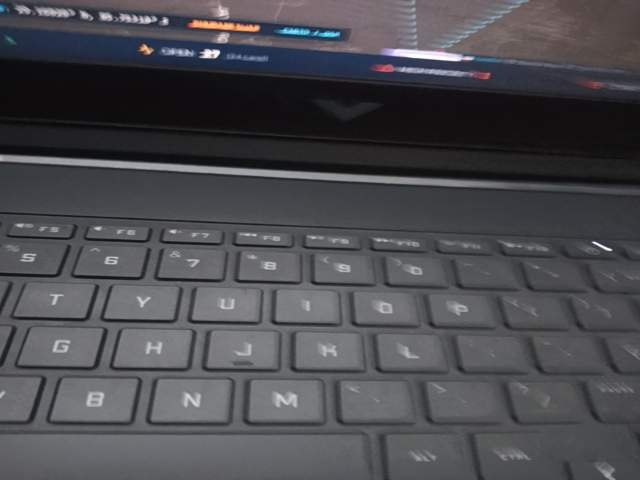pothole: (104, 403, 313, 480), (532, 403, 640, 480)
